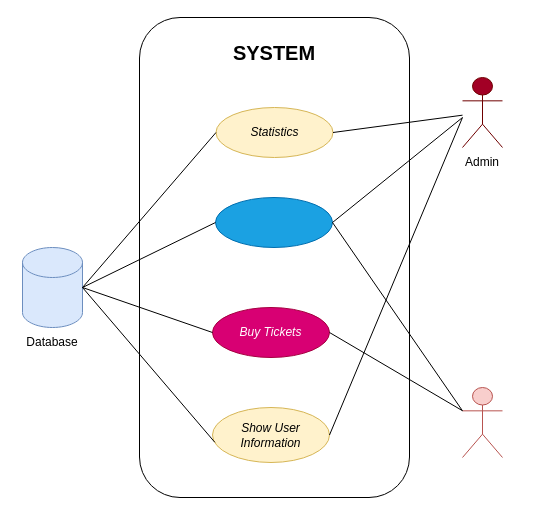
The diagram is 534 pixels wide and 515 high, and some of its shapes have lost their labels. The shapes that lost their labels are listed below. From the top down, each one's centre as x and y in pixels, then its label:
At point (273, 222): "Show Seats".
At point (482, 422): "Customer".
